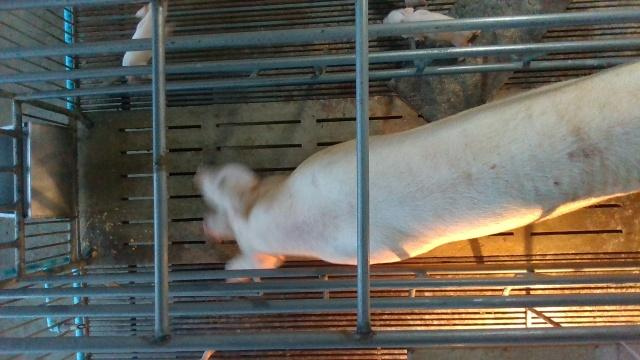piglet: (383, 7, 481, 61), (121, 2, 175, 81)
sow-stand: (194, 59, 640, 282)
